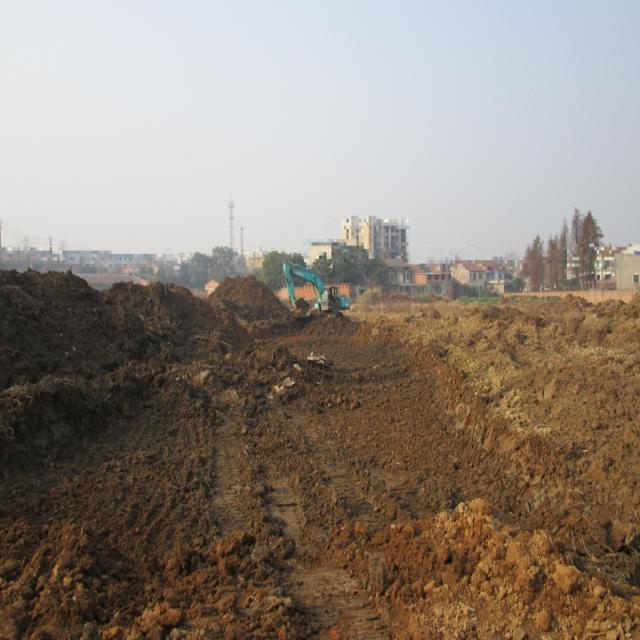excavator: (283, 262, 350, 319)
